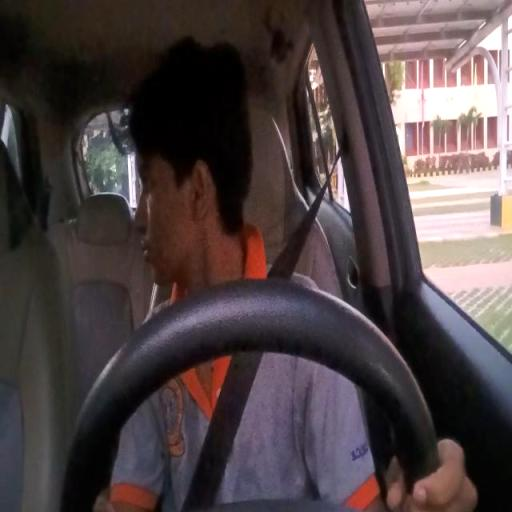Reaching_behind: (115, 43, 342, 480)
